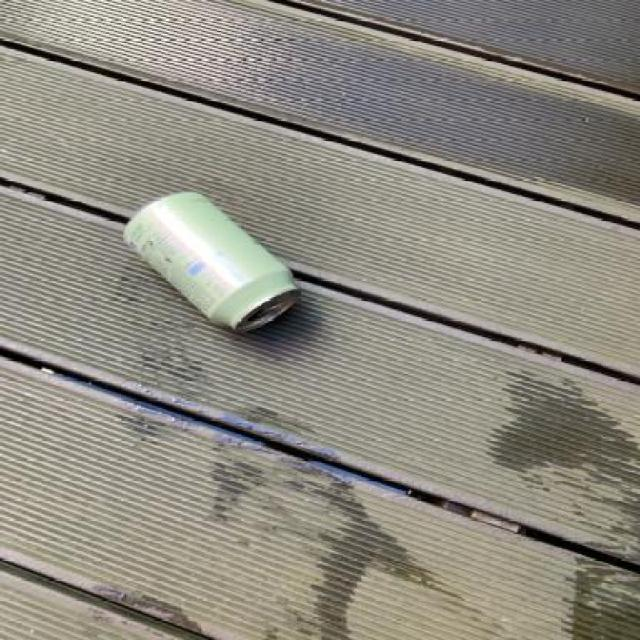trash: (119, 187, 308, 335)
